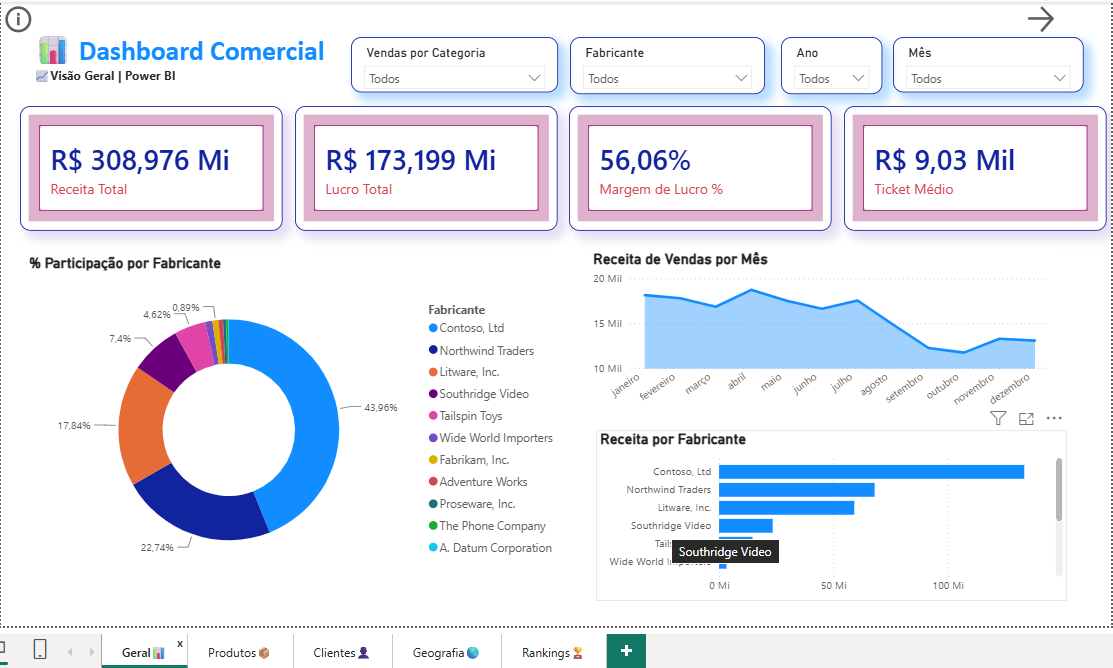

Layout of this report page (visuals, bound fields, positions):
{"tool":"powerbi","page":{"name":"Geral📊","canvas":[1280,720],"ordinal":0},"visuals":[{"type":"cardVisual","fields":{"Data":["BaseVendas.Receita Total"]},"box":[21.8,119.5,303.3,143.9],"z":0},{"type":"cardVisual","fields":{"Data":["BaseVendas.Lucro Total"]},"box":[338.8,119.5,303.3,143.9],"z":1000},{"type":"cardVisual","fields":{"Data":["BaseVendas.Margem"]},"box":[655.9,119.5,303.3,143.9],"z":2000},{"type":"cardVisual","fields":{"Data":["BaseVendas.Ticket Médio"]},"box":[972.9,119.5,303.3,143.9],"z":3000},{"type":"slicer","fields":{"Values":["BaseVendas.Categoria"]},"box":[403.5,39.8,239,64.3],"z":4000},{"type":"donutChart","fields":{"Category":["BaseVendas.Fabricante"],"Y":["BaseVendas.% Participação"]},"box":[27.7,290.8,623.3,386.8],"z":5000},{"type":"textbox","box":[33.4,27,345.7,77.1],"z":6000},{"type":"slicer","fields":{"Values":["BaseVendas.Data Venda.Variation.Hierarquia de datas.Ano"]},"box":[899.6,39.8,116.9,65.5],"z":7000},{"type":"slicer","fields":{"Values":["BaseVendas.Fabricante"]},"box":[656.7,39.8,224.9,65.5],"z":8000},{"type":"slicer","title":"Receita por Mês","fields":{"Values":["BaseVendas.Data Venda.Variation.Hierarquia de datas.Mês"]},"box":[1029.4,39.8,219.8,64.3],"z":10000},{"type":"lineChart","title":"Receita de Vendas por Mês","fields":{"Category":["BaseVendas.Data Venda.Variation.Hierarquia de datas.Mês"],"Y":["Sum(BaseVendas.Qtd. Vendida)"]},"box":[678.5,286.2,535.9,197.9],"z":11000},{"type":"clusteredBarChart","title":"Receita por Fabricante","fields":{"Category":["BaseVendas.Fabricante"],"Y":["BaseVendas.Receita Total"]},"box":[686.3,493.5,543.6,197.9],"z":12000},{"type":"actionButton","box":[0,0,100,40],"z":14000},{"type":"actionButton","box":[1179.2,0,100,40],"z":15000}]}

Visuals, with their boxes on the page's 1280x720 design canvas (x1, y1, x2, y2). These are canvas units, not pixel positions in the 1113x668 screenshot, which may show the page scaled, cropped or inside an application window:
cardVisual - BaseVendas.Receita Total: 22:120:325:263
cardVisual - BaseVendas.Lucro Total: 339:120:642:263
cardVisual - BaseVendas.Margem: 656:120:959:263
cardVisual - BaseVendas.Ticket Médio: 973:120:1276:263
slicer - BaseVendas.Categoria: 404:40:642:104
donutChart - BaseVendas.Fabricante x BaseVendas.% Participação: 28:291:651:678
textbox: 33:27:379:104
slicer - BaseVendas.Data Venda.Variation.Hierarquia de datas.Ano: 900:40:1016:105
slicer - BaseVendas.Fabricante: 657:40:882:105
"Receita por Mês" slicer: 1029:40:1249:104
"Receita de Vendas por Mês" lineChart: 678:286:1214:484
"Receita por Fabricante" clusteredBarChart: 686:494:1230:691
actionButton: 0:0:100:40
actionButton: 1179:0:1279:40
